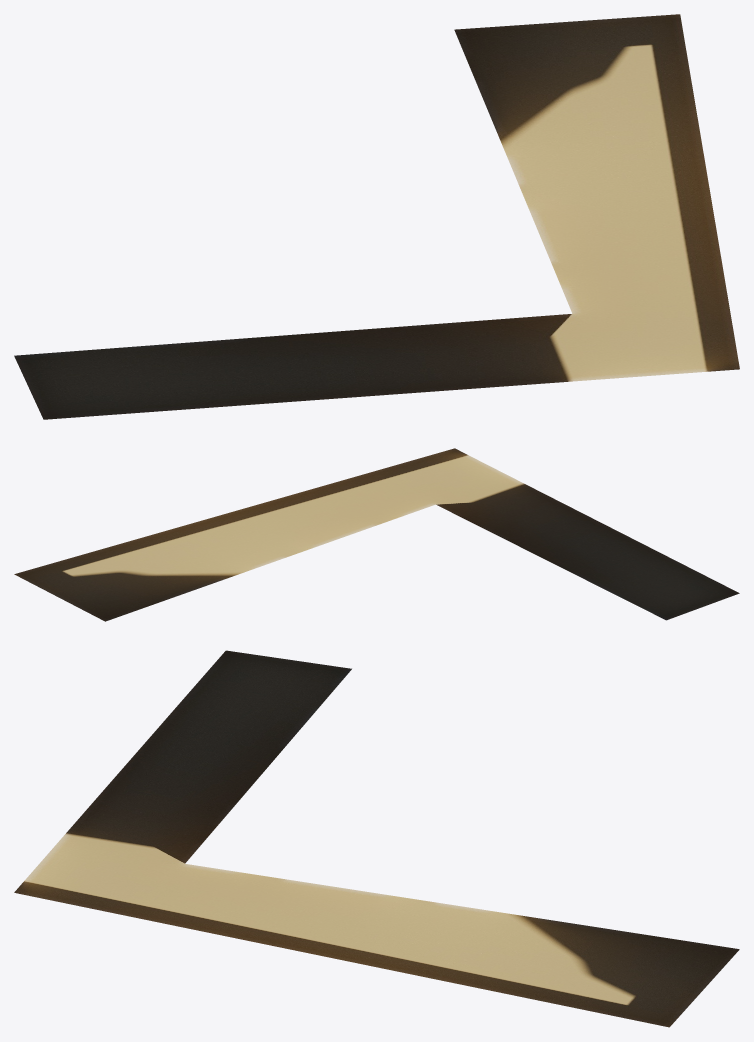
Rendered from Building_01_Rooftop.fbx.
3 renders of one model, top to bottom at view 1: azimuth 30°, elevation 25°; view 2: azimuth 150°, elevation 25°; view 3: azimuth 270°, elevation 25°, orthographic. The views are drawn at different scales.
Parts seen in each view (by area): view 1: Building_01_Rooftop; view 2: Building_01_Rooftop; view 3: Building_01_Rooftop.
Boxes of the visible parts, x1,y1,x2,y2 form: Building_01_Rooftop: [14, 14, 739, 419]; Building_01_Rooftop: [14, 448, 739, 621]; Building_01_Rooftop: [14, 650, 739, 1027].
Size of the model in its own units: 21.8 by 0 by 17.75.
Materials: 1 (1 with a texture image).
